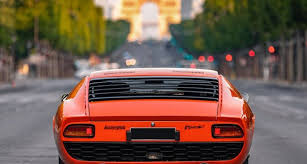Lamborghini: (56, 72, 254, 163)
